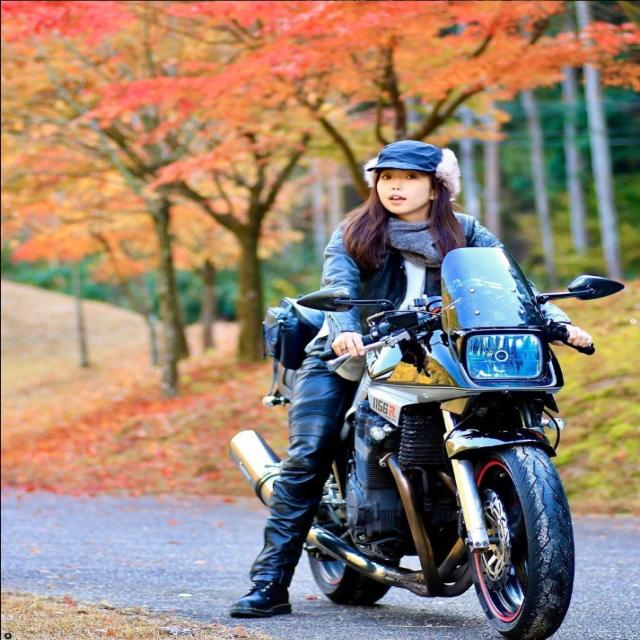illegal_helmet: (358, 138, 464, 219)
